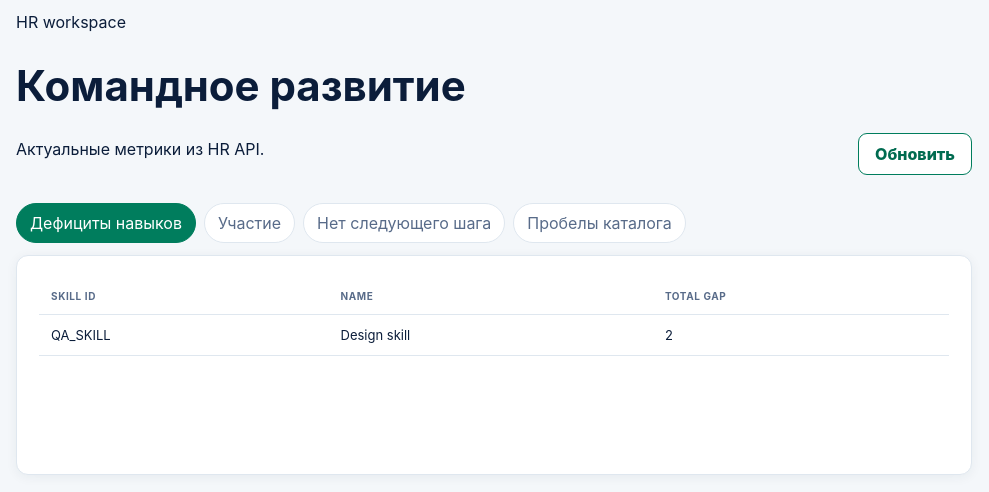
Test case: HR participation API contract › keeps the items-based skill-gap view working after changing tabs
Expected: the cell "Design skill" is shown, [328,315,653,356]
Click the tab "Участие" at (250, 223), box [204,203,295,243]
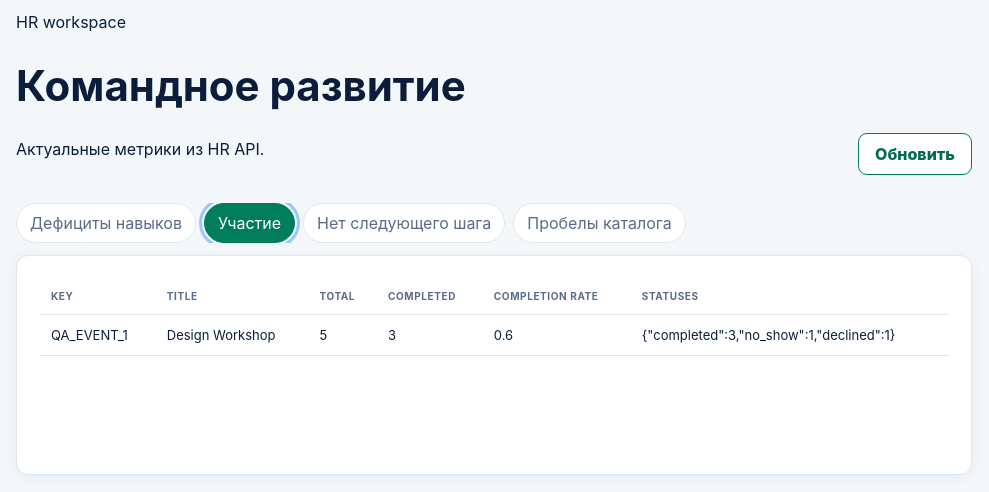
Expected: the cell "Design Workshop" is shown, [155,315,308,356]
Click the tab "Дефициты навыков" at (106, 223), box [16,203,196,243]
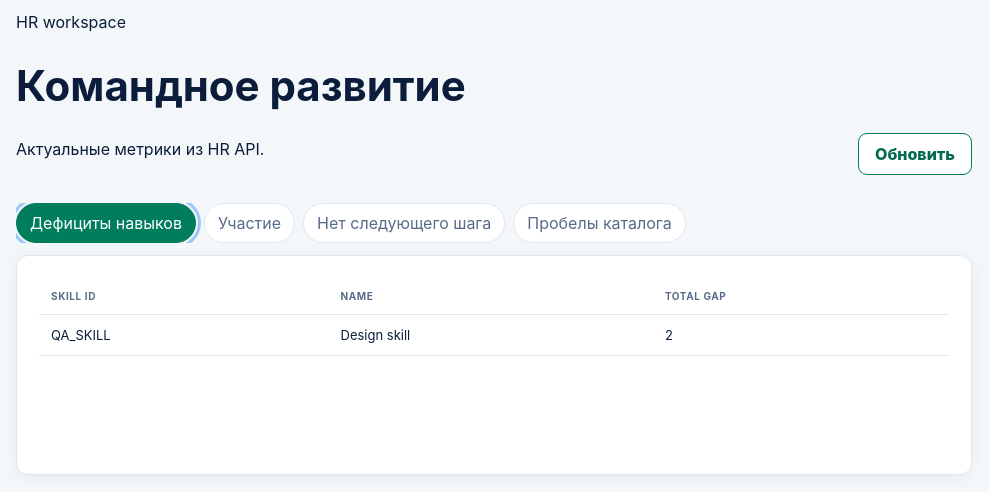
Expected: the cell "Design skill" is shown, [328,315,653,356]
Expected: the cell "Design Workshop" is gone
